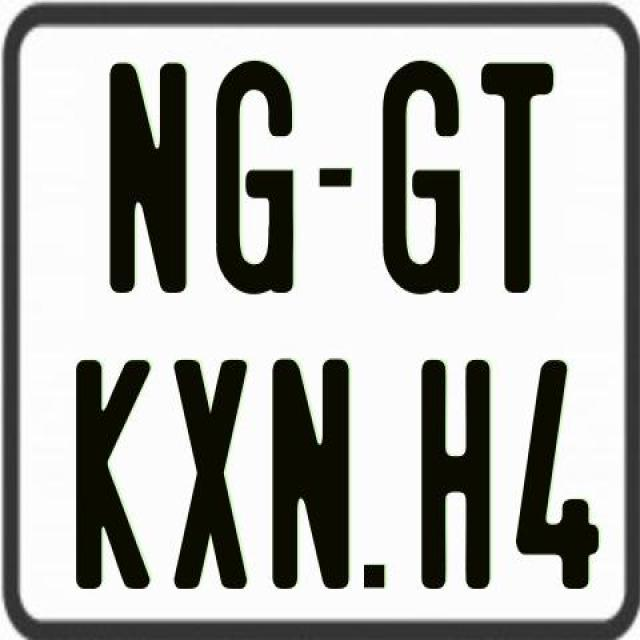4: (513, 355, 604, 592)
G: (216, 59, 296, 298), (382, 58, 462, 292)
H: (418, 361, 486, 594)
K: (75, 357, 156, 590)
N: (269, 356, 352, 594), (109, 59, 188, 293)
T: (482, 60, 554, 298)
X: (170, 361, 250, 594)
